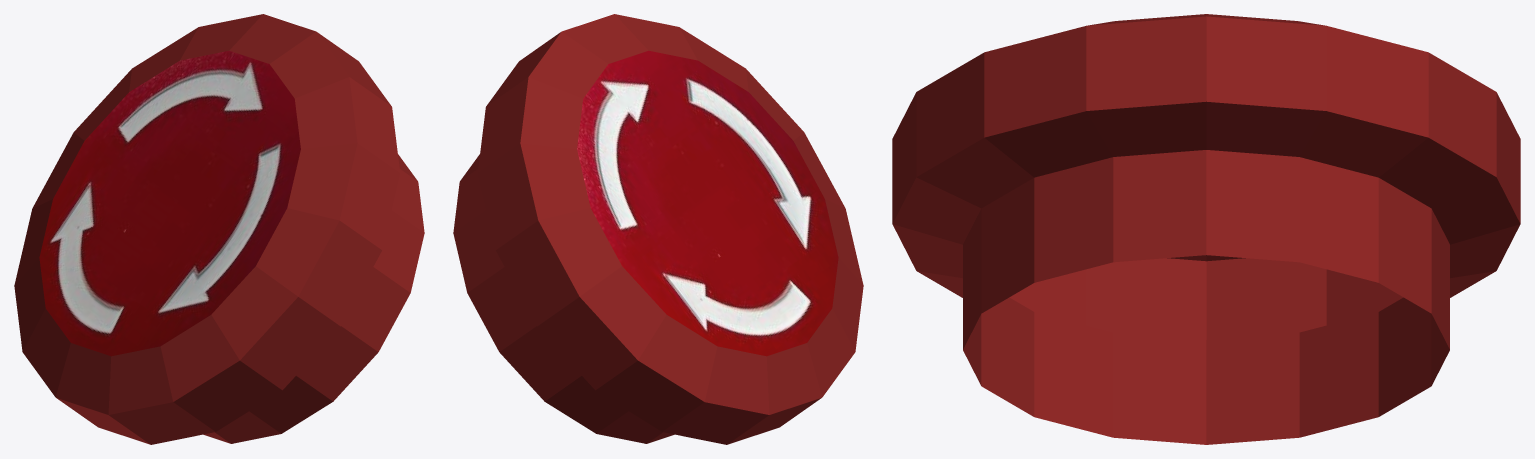
File: EmergencyStop.fbx
The picture shows the model from 3 angles, left to right: view 1: azimuth 30°, elevation 25°; view 2: azimuth 150°, elevation 25°; view 3: azimuth 270°, elevation 25°; orthographic projection. The views are drawn at different scales.
Visible parts, largest first — view 1: EmergencyStop; view 2: EmergencyStop; view 3: EmergencyStop.
Boxes of the visible parts, left/top/right/bottom form: EmergencyStop: left=14, top=14, right=424, bottom=444; EmergencyStop: left=453, top=14, right=863, bottom=444; EmergencyStop: left=892, top=14, right=1520, bottom=444.
Bounding box in the file's own units: 3.85 × 4.02 × 4.45.
Materials: 2 (1 with a texture image).
